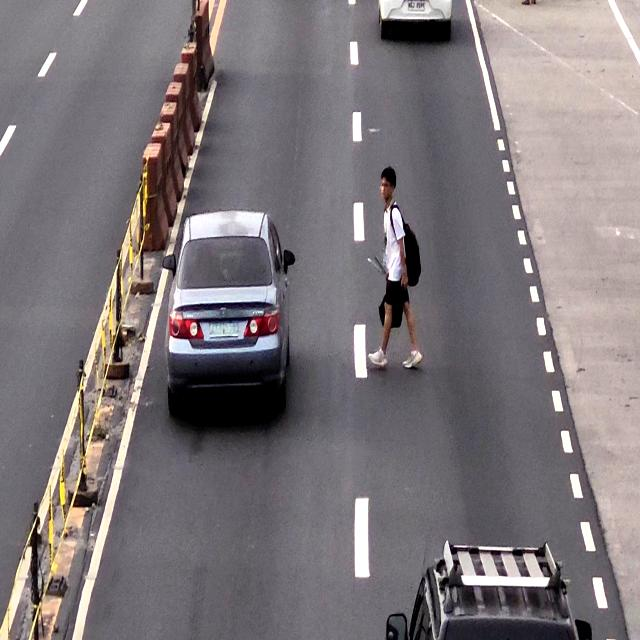Car: (165, 209, 289, 424)
License-Plate: (209, 318, 241, 340)
